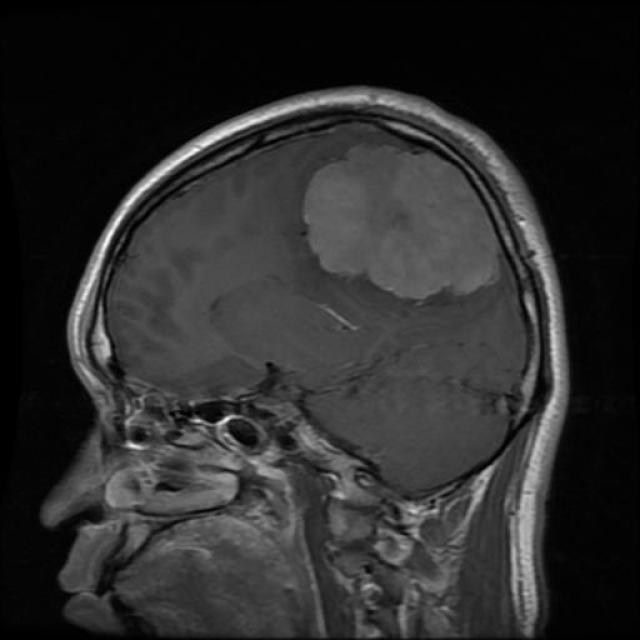Meningioma: (300, 145, 505, 303)
